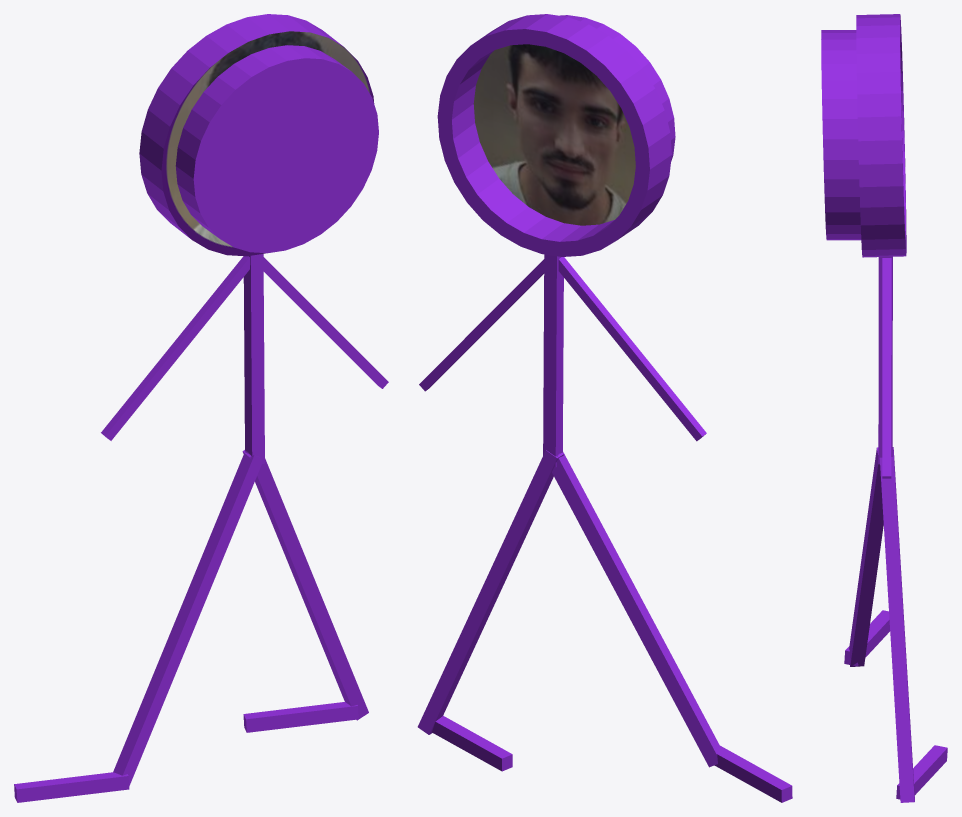
Rendered from Belito.glb.
The picture shows the model from 3 angles, left to right: view 1: azimuth 30°, elevation 25°; view 2: azimuth 150°, elevation 25°; view 3: azimuth 270°, elevation 25°; orthographic projection.
Visible parts, largest first — view 1: Cylinder; view 2: Cylinder; view 3: Cylinder.
Boxes of the visible parts, bbox=[...] form: Cylinder: bbox=[14, 14, 388, 802]; Cylinder: bbox=[417, 14, 792, 802]; Cylinder: bbox=[821, 14, 947, 802].
Bounding box in the file's own units: 5.37 × 10.11 × 1.6.
2 materials, 1 textured.
